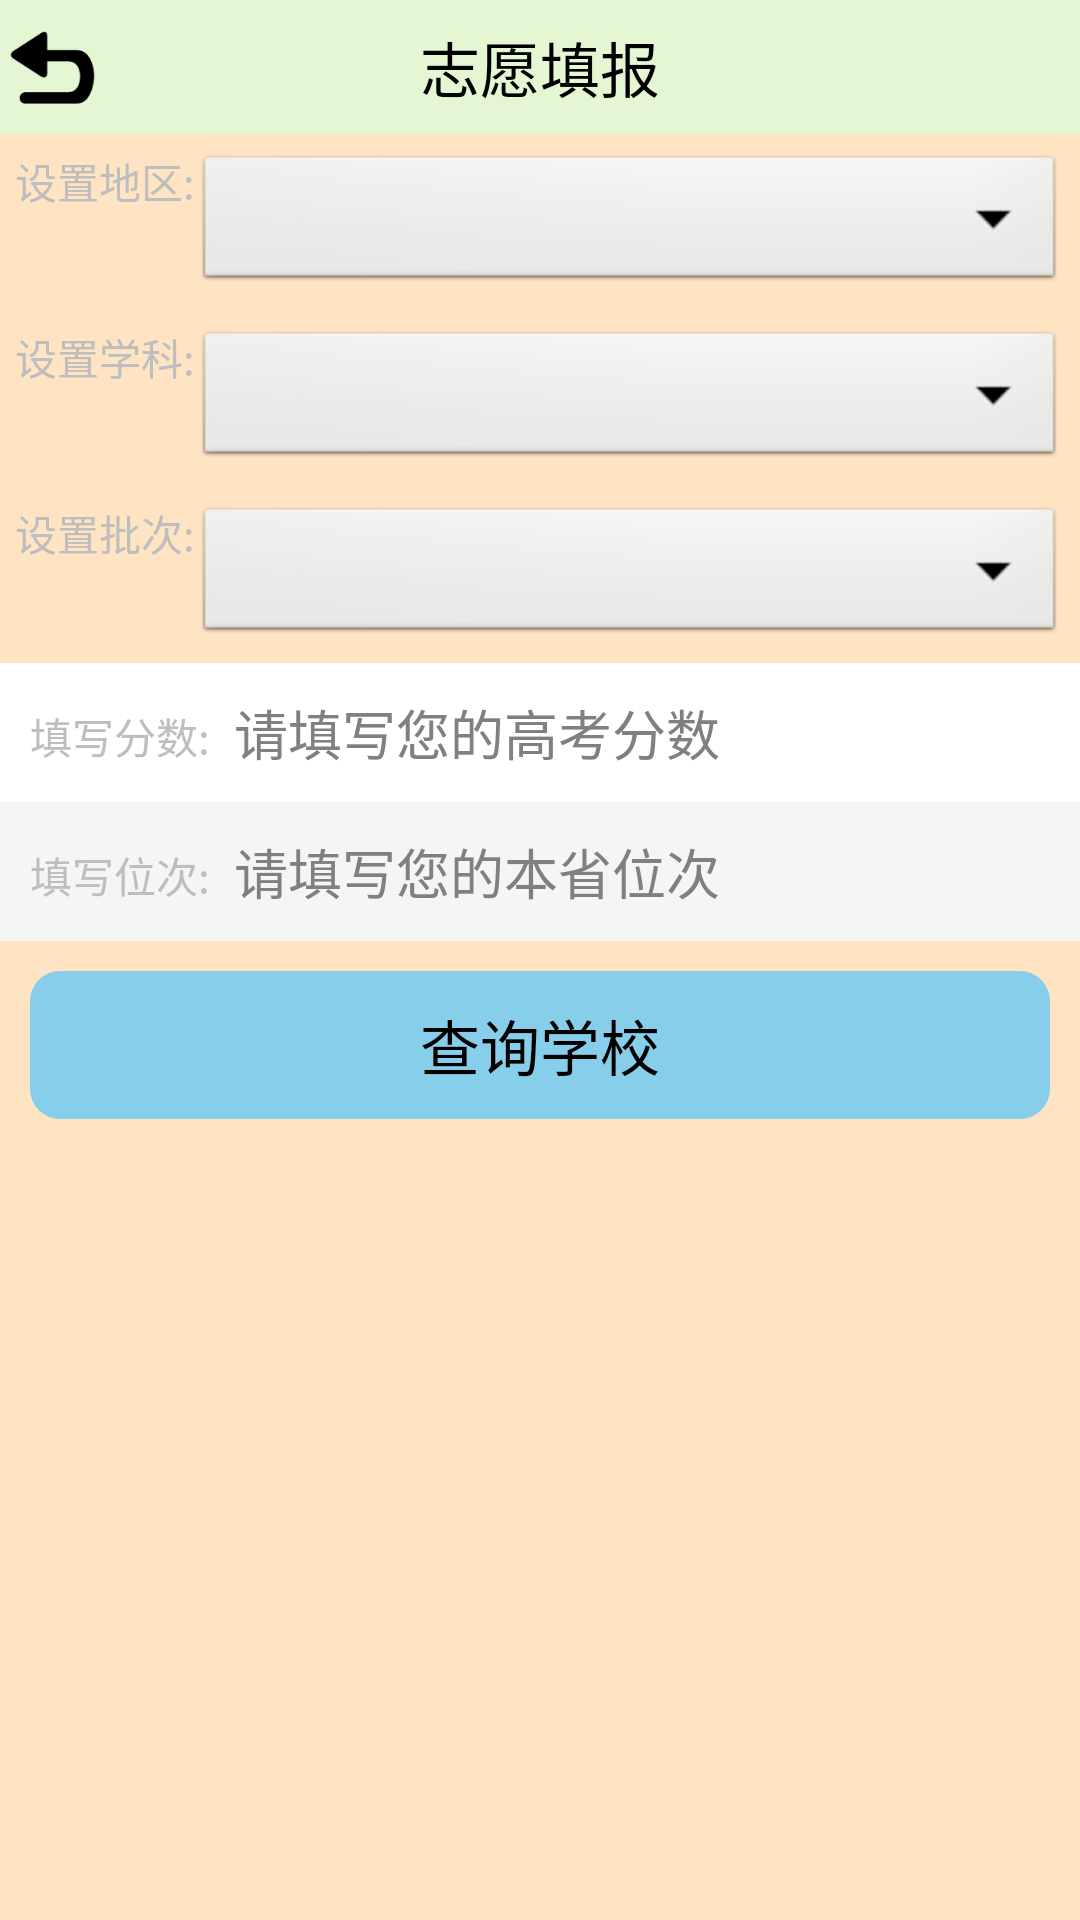

Where to tap for icons on this 1080 × 1920 app screen, as point (x, y):
back ib: point (52, 67)
